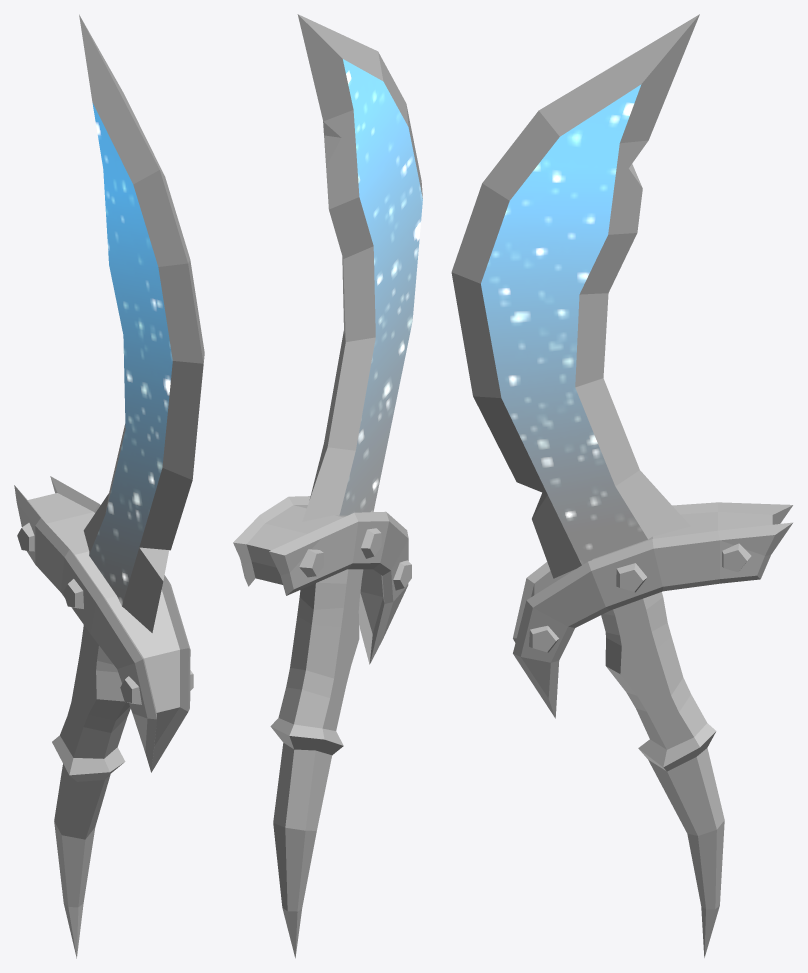
Rendered from SM_Wep_Dagger_04.fbx.
3 renders of one model, left to right at view 1: azimuth 30°, elevation 25°; view 2: azimuth 150°, elevation 25°; view 3: azimuth 270°, elevation 25°, orthographic.
Visible parts, largest first — view 1: SM_Wep_Dagger_04; view 2: SM_Wep_Dagger_04; view 3: SM_Wep_Dagger_04.
Boxes of the visible parts, x1,y1,x2,y2 form: SM_Wep_Dagger_04: [14, 14, 204, 958]; SM_Wep_Dagger_04: [233, 14, 422, 958]; SM_Wep_Dagger_04: [451, 14, 792, 957].
Bounding box in the file's own units: 7.63 × 78.05 × 25.6.
